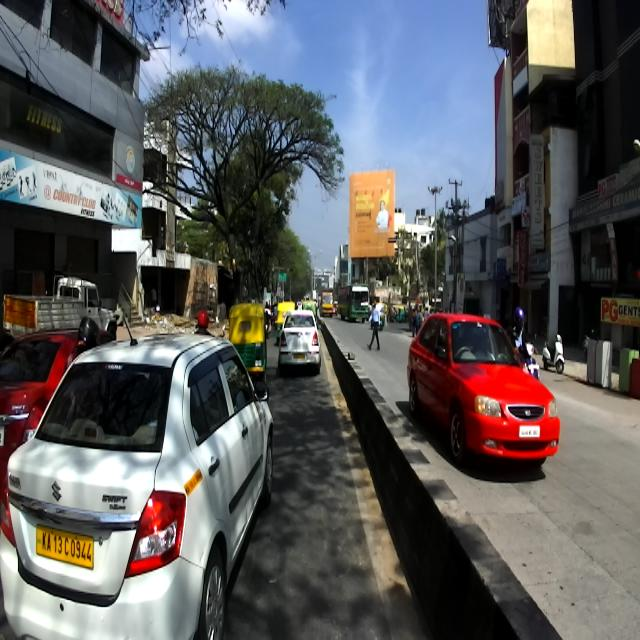car ahead at: (5, 306, 277, 640), (407, 306, 563, 472), (280, 310, 326, 372)
